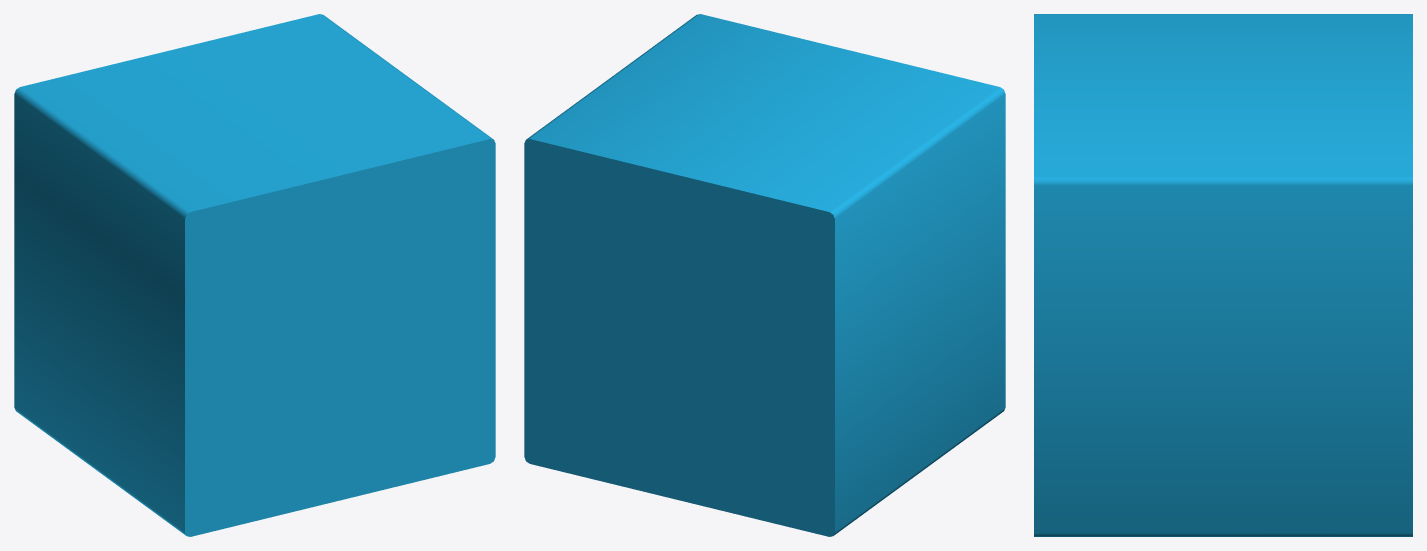
File: platform.fbx
The picture shows the model from 3 angles, left to right: view 1: azimuth 30°, elevation 25°; view 2: azimuth 150°, elevation 25°; view 3: azimuth 270°, elevation 25°; orthographic projection. The views are drawn at different scales.
Visible parts, largest first — view 1: platform; view 2: platform; view 3: platform.
Boxes of the visible parts, x1,y1,x2,y2 form: platform: [14, 14, 495, 536]; platform: [524, 14, 1005, 536]; platform: [1034, 14, 1412, 536].
Size of the model in its own units: 1846 by 1846 by 1758.
